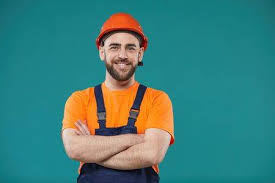Person_wearing_helmet: (94, 7, 153, 58)
